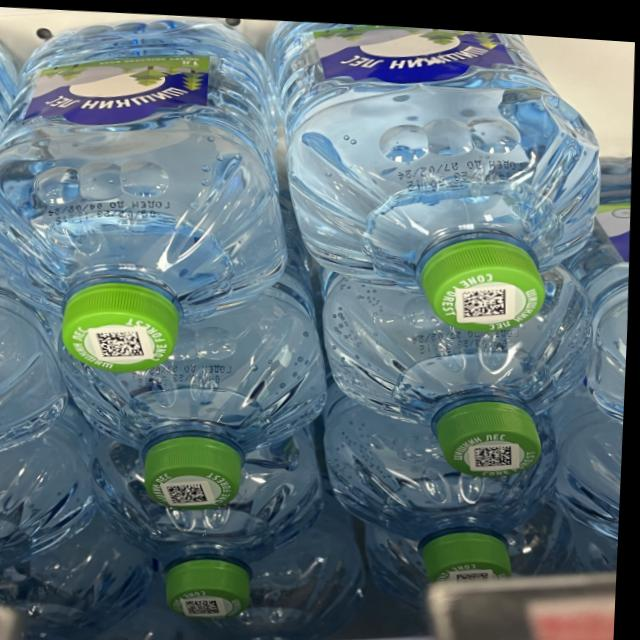datamatrix: (463, 279, 509, 313), (97, 327, 147, 357), (169, 479, 212, 502), (477, 436, 516, 461), (190, 595, 224, 612)
